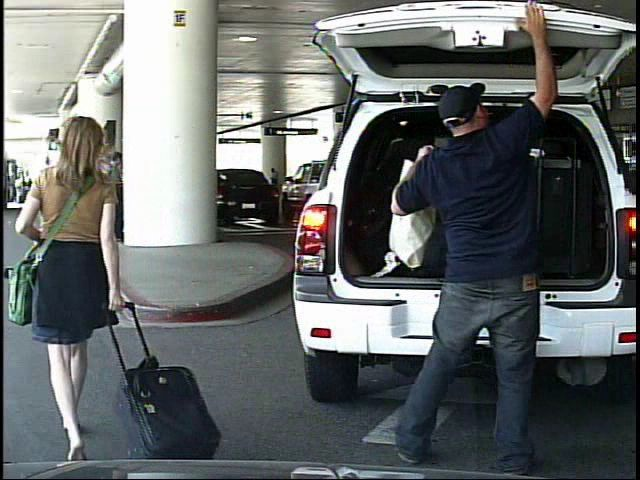person: (379, 3, 565, 480), (38, 104, 172, 444), (268, 166, 282, 202), (16, 173, 27, 204)
